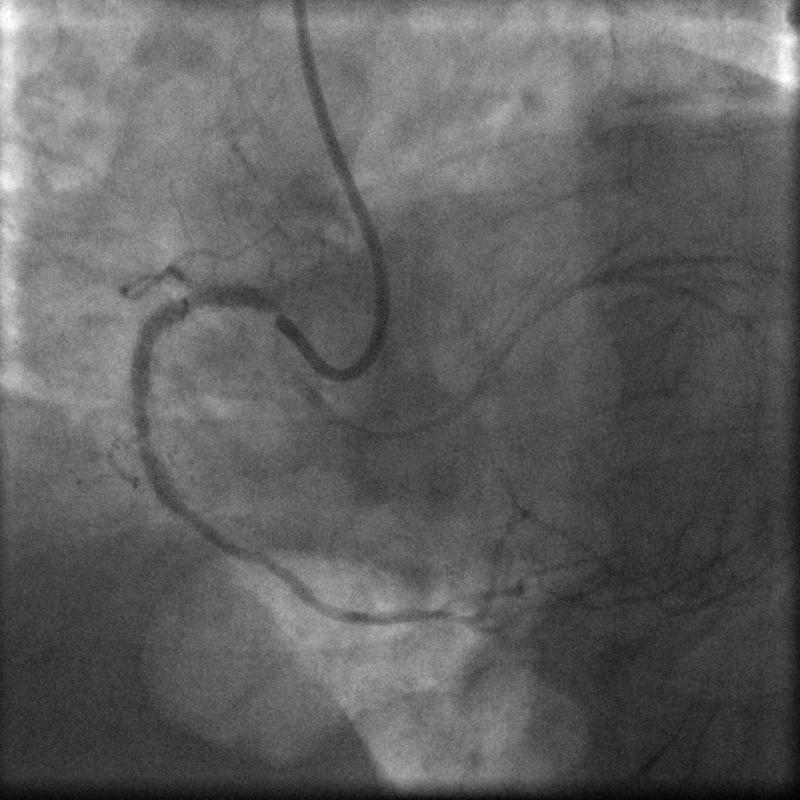Stenosis: (128, 390, 155, 463)
